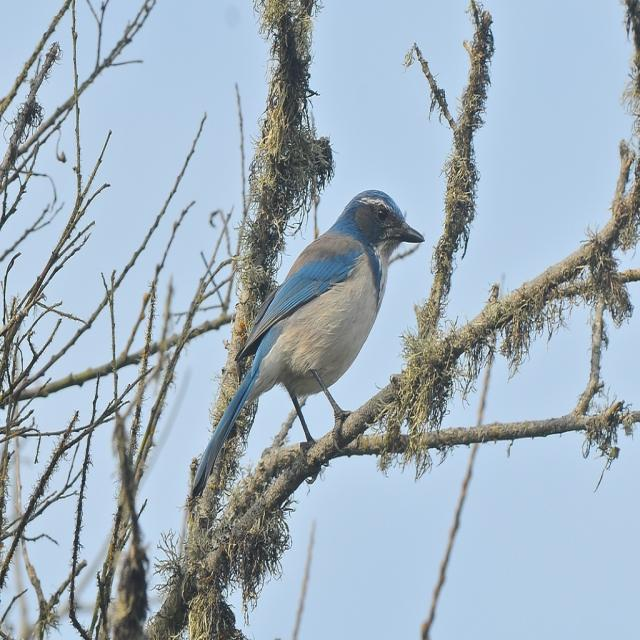bird: (186, 180, 428, 496)
